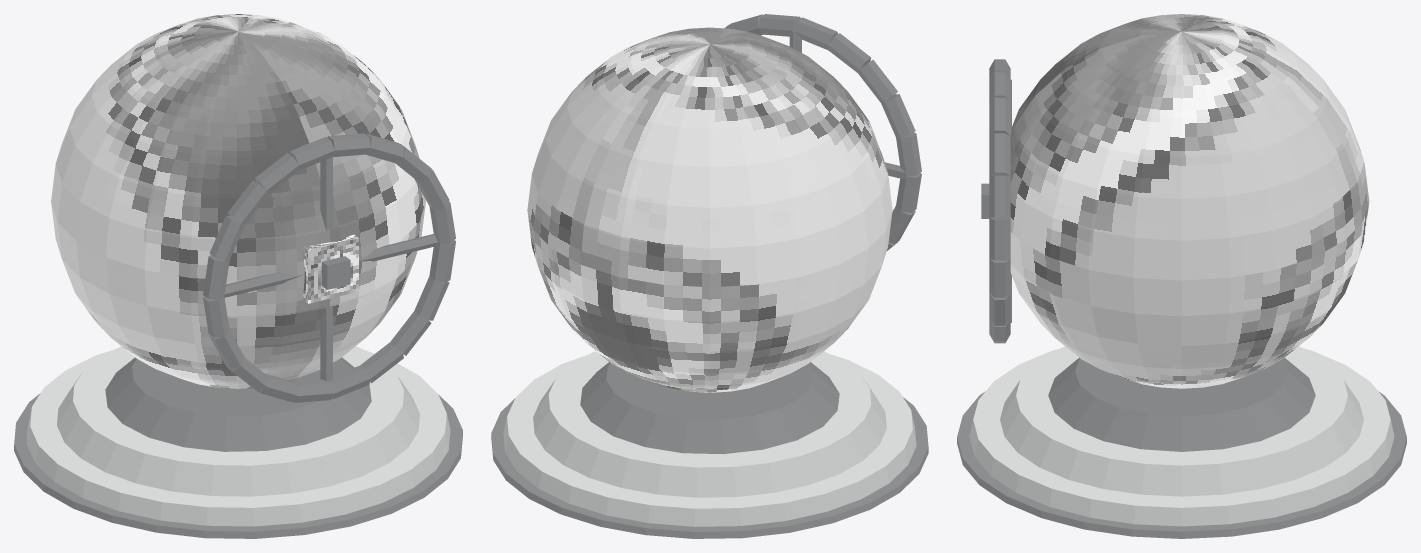
File: Building_SculptureLarge__F.glb
3 views of the same model, side by side, from view 1: azimuth 30°, elevation 25°; view 2: azimuth 150°, elevation 25°; view 3: azimuth 270°, elevation 25° (orthographic). The views are drawn at different scales.
Visible parts, largest first — view 1: SculptureLarge__F; view 2: SculptureLarge__F; view 3: SculptureLarge__F.
Part boxes in pixels (bbox=[...]): SculptureLarge__F: bbox=[14, 14, 462, 538]; SculptureLarge__F: bbox=[491, 14, 928, 538]; SculptureLarge__F: bbox=[957, 14, 1406, 538].
Size of the model in its own units: 1.68 by 1.7 by 1.68.
Materials: 1 (1 with a texture image).
